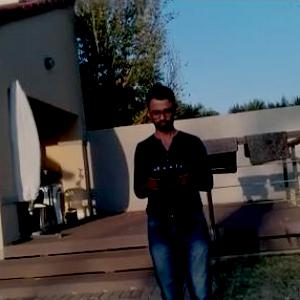follow: (128, 80, 220, 299)
